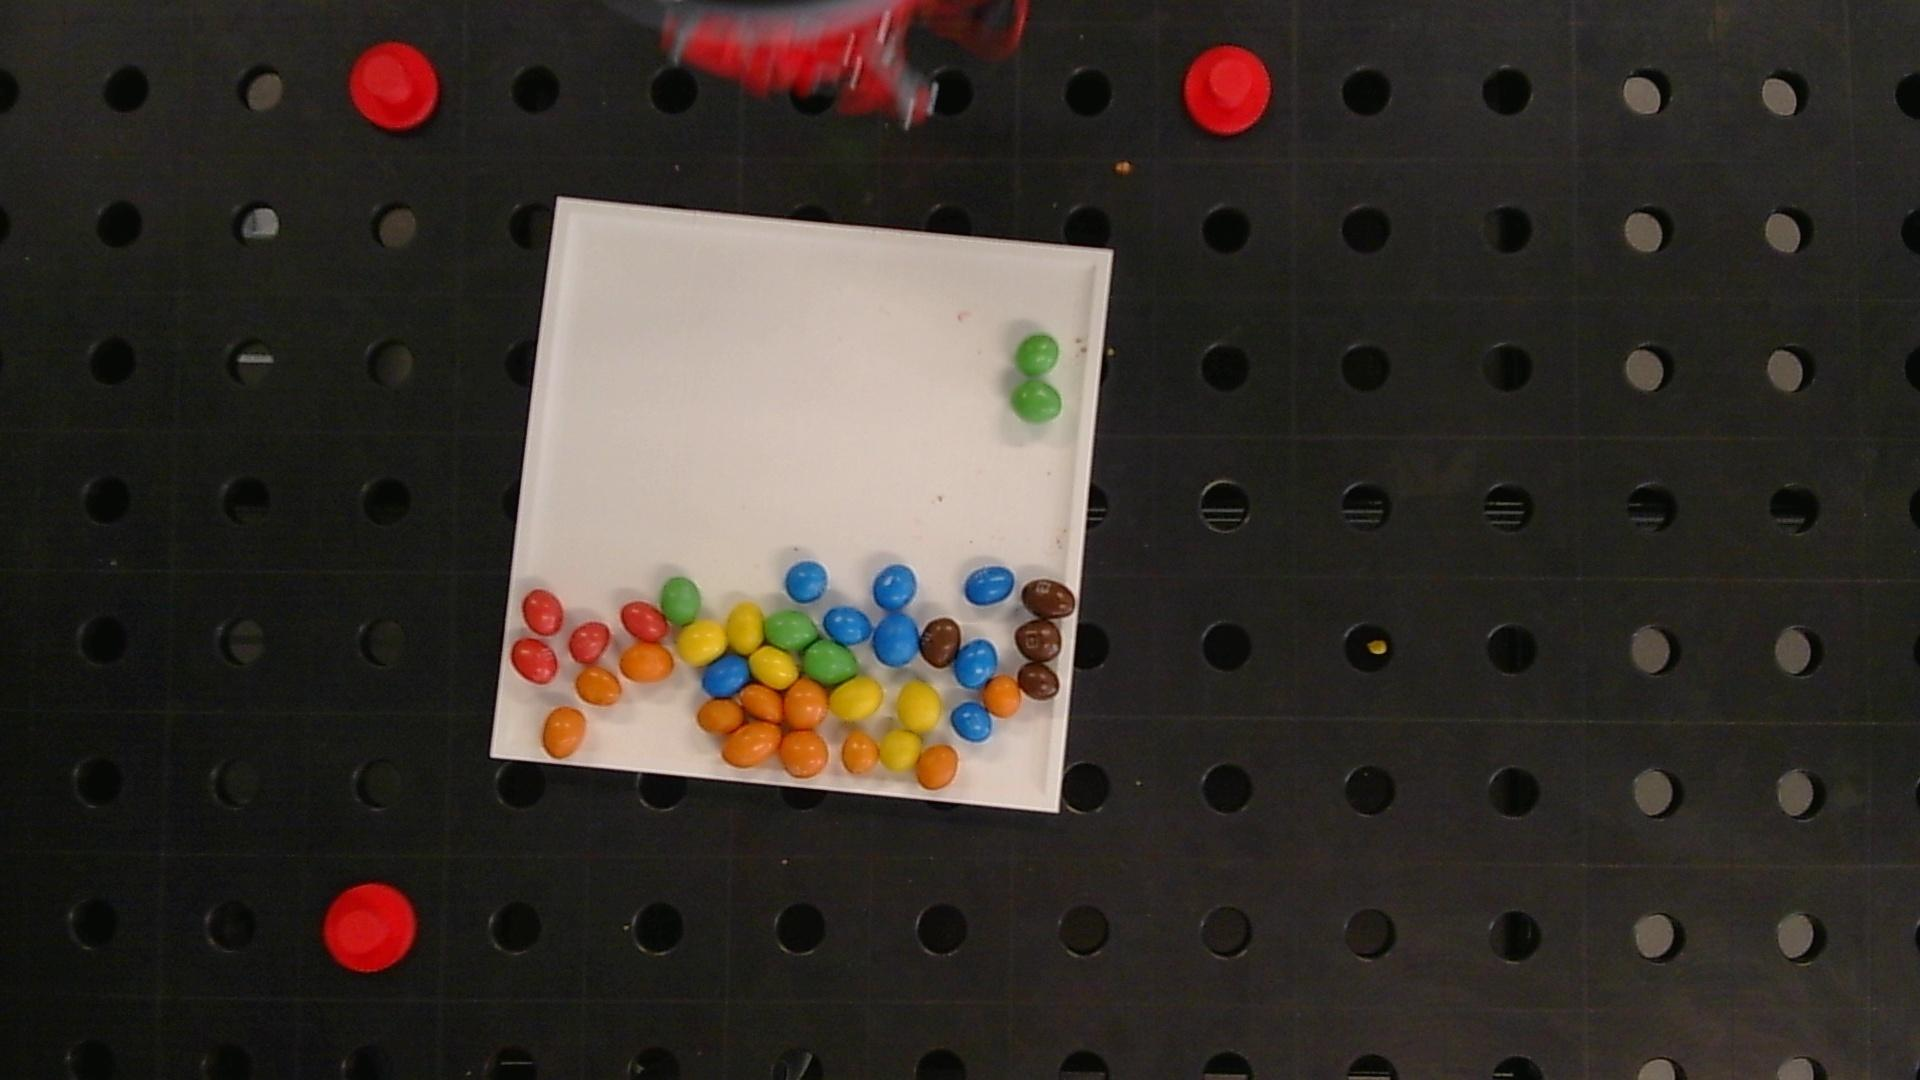blue: (873, 615, 920, 666), (955, 640, 997, 690), (873, 564, 916, 611), (703, 654, 750, 696), (964, 566, 1014, 605), (823, 607, 873, 645), (786, 560, 828, 603), (951, 702, 993, 741)
brown: (1022, 579, 1076, 617), (919, 617, 961, 666), (1015, 621, 1062, 662), (1017, 663, 1060, 699)
green: (802, 640, 857, 683), (1010, 380, 1063, 423), (764, 611, 818, 650), (661, 576, 700, 625), (1015, 334, 1060, 376)
orange: (723, 721, 781, 767), (779, 731, 828, 777), (542, 707, 587, 757), (785, 680, 827, 728), (620, 644, 674, 680), (915, 744, 959, 787), (576, 667, 621, 705), (740, 684, 783, 721), (841, 733, 880, 774), (698, 699, 742, 733), (984, 676, 1021, 717)
red: (510, 640, 558, 683), (620, 601, 669, 642), (522, 589, 563, 634), (568, 621, 611, 663)
yellow: (897, 682, 942, 732), (832, 678, 884, 721), (676, 620, 727, 663), (727, 603, 764, 653), (752, 647, 799, 686), (880, 731, 922, 769)
